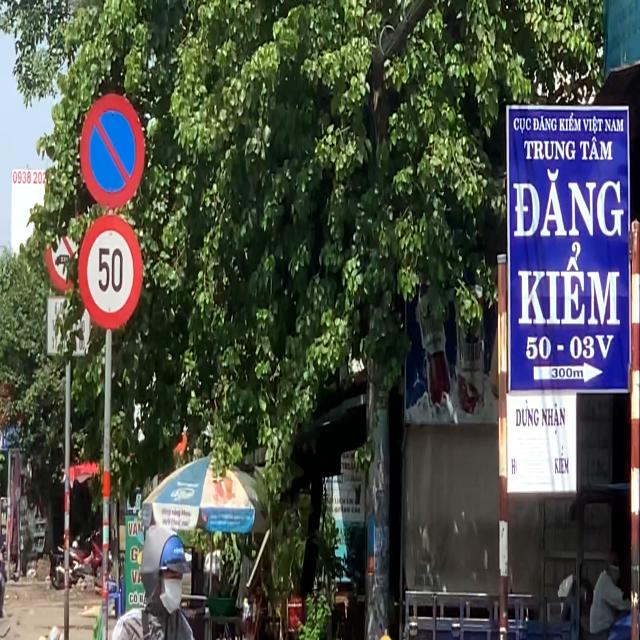P.127: (74, 215, 146, 331)
P.131a: (74, 90, 156, 207)
